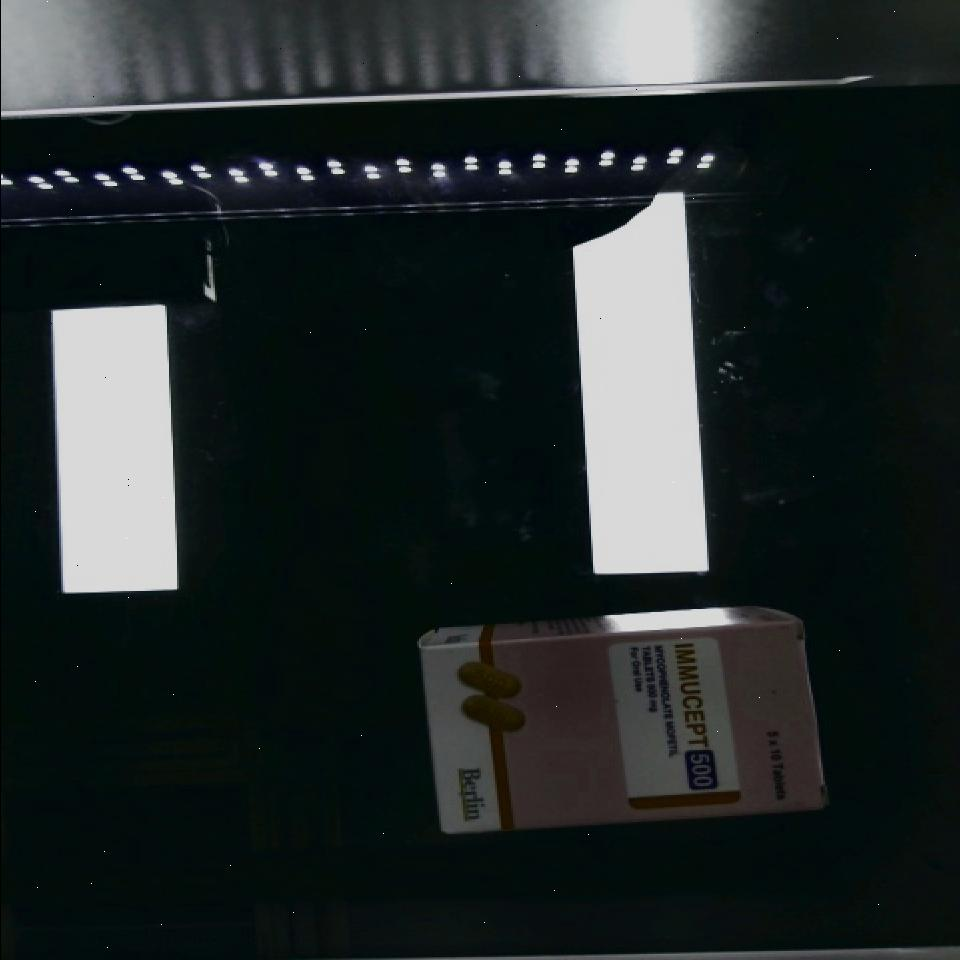medicine_box: (422, 618, 823, 835)
medicine_label_obb: (655, 634, 733, 809)
